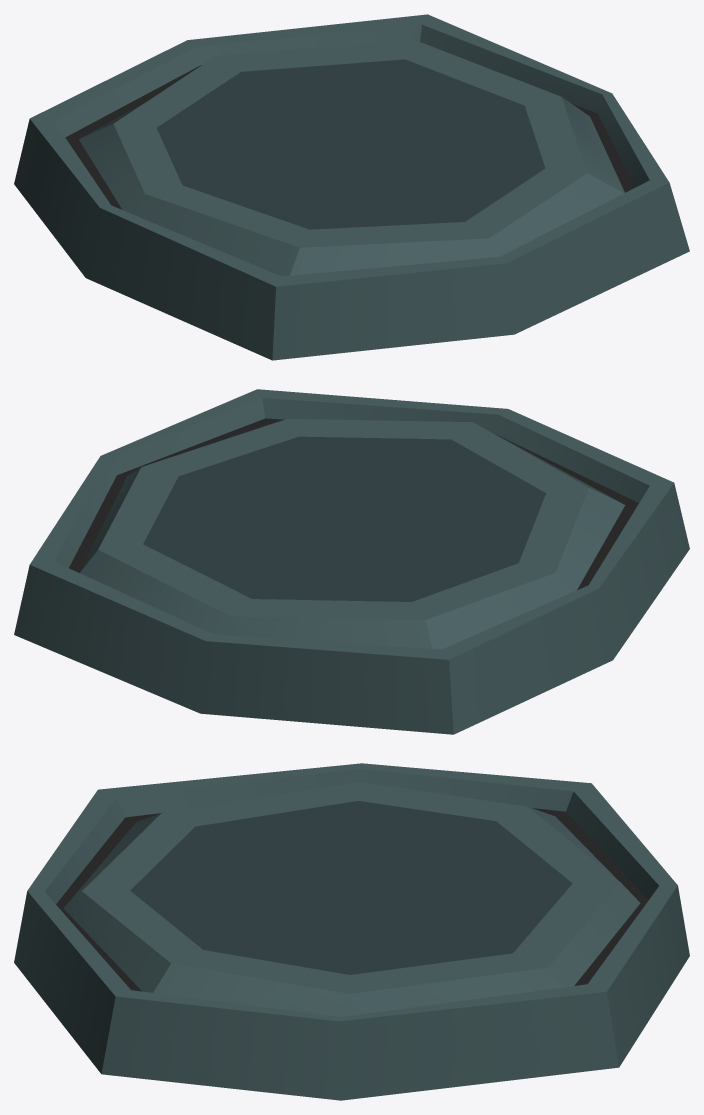
The model's file is Pithole.fbx.
The picture shows the model from 3 angles, top to bottom: view 1: azimuth 30°, elevation 25°; view 2: azimuth 150°, elevation 25°; view 3: azimuth 270°, elevation 25°; orthographic projection. The views are drawn at different scales.
Parts seen in each view (by area): view 1: SM_Prop_Sidewalk_Panel_02; view 2: SM_Prop_Sidewalk_Panel_02; view 3: SM_Prop_Sidewalk_Panel_02.
Part boxes in pixels (<box>): SM_Prop_Sidewalk_Panel_02: <box>14,14,689,360</box>; SM_Prop_Sidewalk_Panel_02: <box>14,389,689,734</box>; SM_Prop_Sidewalk_Panel_02: <box>14,763,689,1100</box>.
Bounding box in the file's own units: 199 × 25.35 × 207.
